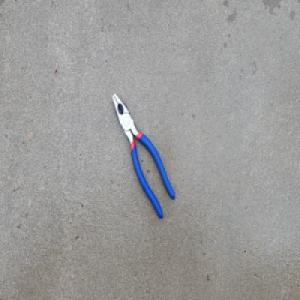Pliers: (111, 91, 176, 221)
